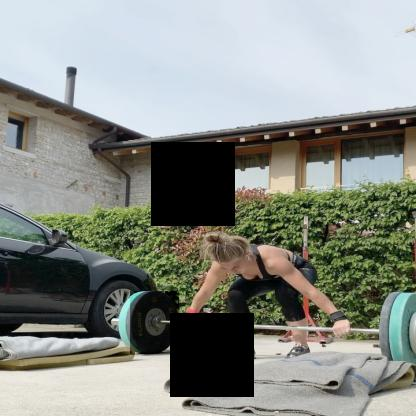barbell: (131, 293, 180, 357)
